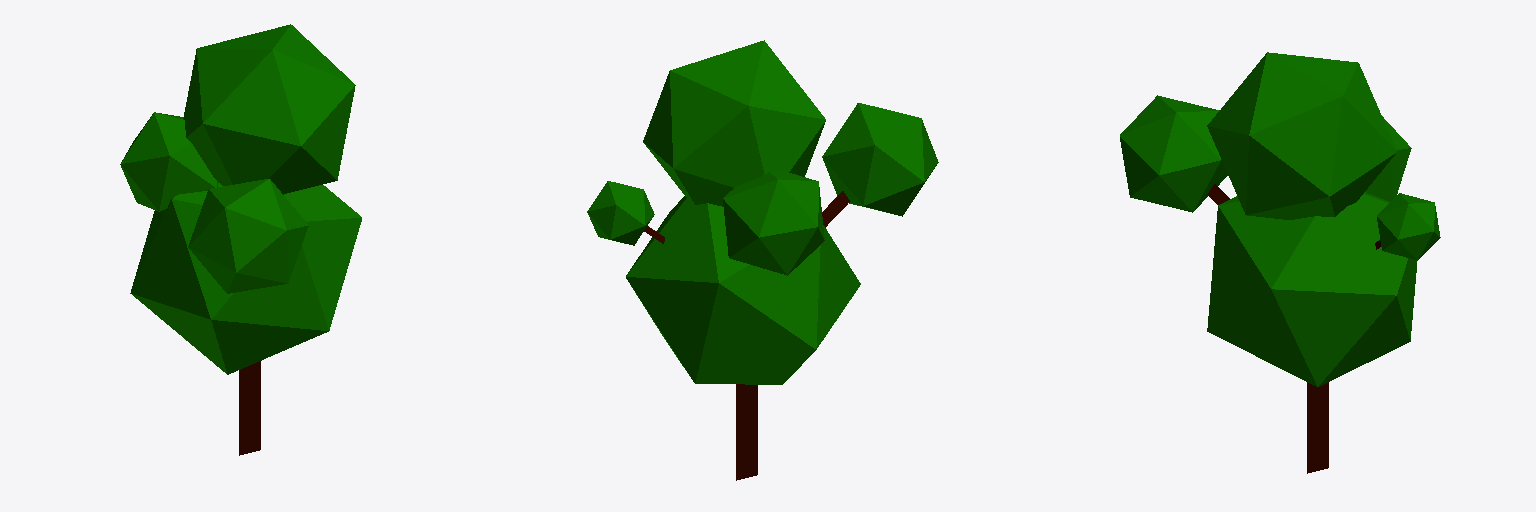
The model's file is tree1s3.obj.
3 views of the same model, side by side, from view 1: azimuth 30°, elevation 25°; view 2: azimuth 150°, elevation 25°; view 3: azimuth 270°, elevation 25° (orthographic).
Parts seen in each view (by area): view 1: Icosphere.004_Icosphere, Icosphere, Icosphere.001_Icosphere, Icosphere.003_Icosphere, Cylinder; view 2: Icosphere, Icosphere.004_Icosphere, Icosphere.001_Icosphere, Icosphere.003_Icosphere, Icosphere.002_Icosphere, Cylinder; view 3: Icosphere, Icosphere.004_Icosphere, Icosphere.001_Icosphere, Icosphere.002_Icosphere, Cylinder, Icosphere.003_Icosphere.
Boxes of the visible parts, box(x1,y1,x2,y2) form: Icosphere.004_Icosphere: box(183, 24, 355, 194); Icosphere: box(130, 183, 361, 374); Icosphere.001_Icosphere: box(188, 179, 308, 293); Icosphere.003_Icosphere: box(120, 112, 218, 212); Cylinder: box(239, 361, 260, 455); Icosphere: box(626, 196, 860, 384); Icosphere.004_Icosphere: box(643, 40, 825, 206); Icosphere.001_Icosphere: box(822, 103, 938, 216); Icosphere.003_Icosphere: box(723, 172, 824, 275); Icosphere.002_Icosphere: box(587, 181, 654, 245); Cylinder: box(736, 384, 757, 480); Icosphere: box(1207, 192, 1416, 386); Icosphere.004_Icosphere: box(1207, 52, 1396, 219); Icosphere.001_Icosphere: box(1120, 95, 1227, 212); Icosphere.002_Icosphere: box(1377, 193, 1440, 260); Cylinder: box(1307, 382, 1328, 473); Icosphere.003_Icosphere: box(1365, 116, 1411, 201).
Size of the model in its own units: 2.61 by 4.63 by 3.23.